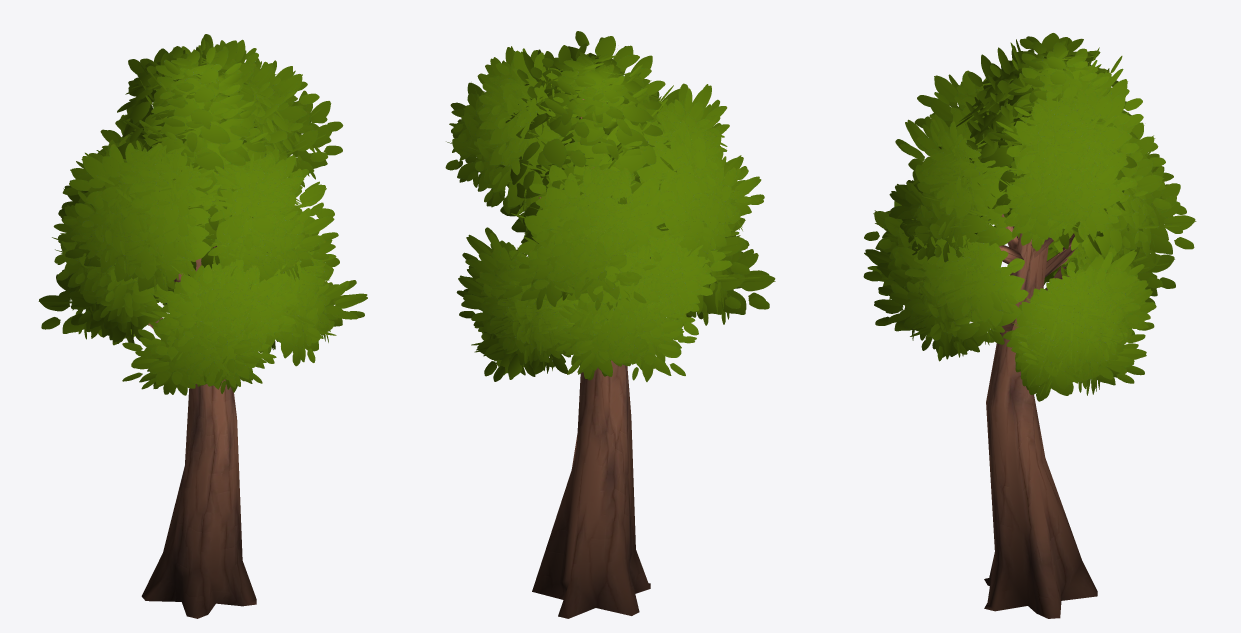
The model's file is tree-teaching-1-mature.glb.
3 renders of one model, left to right at view 1: azimuth 30°, elevation 25°; view 2: azimuth 150°, elevation 25°; view 3: azimuth 270°, elevation 25°, orthographic. The views are drawn at different scales.
Parts seen in each view (by area): view 1: CommonTree_1; view 2: CommonTree_1; view 3: CommonTree_1.
Boxes of the visible parts, bbox=[...] form: CommonTree_1: bbox=[38, 34, 367, 618]; CommonTree_1: bbox=[445, 31, 775, 618]; CommonTree_1: bbox=[863, 33, 1196, 618].
Bounding box in the file's own units: 3.18 × 5.35 × 3.37.
Materials: 2 (2 with a texture image).
